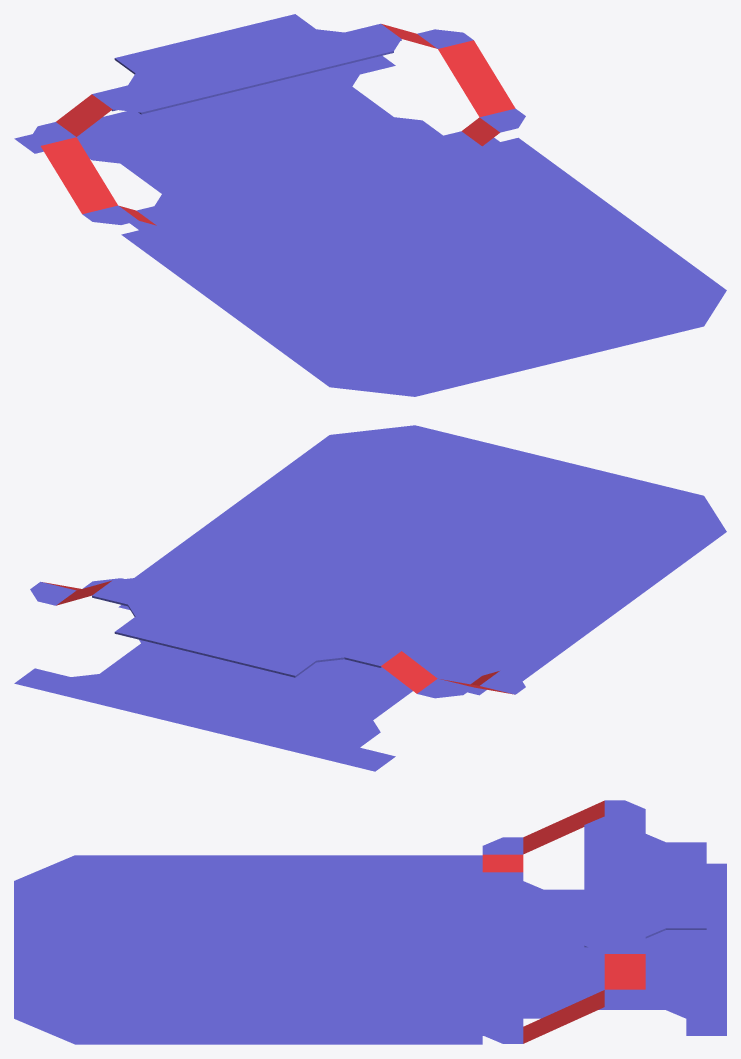
File: Encounter_003_Floor.fbx
3 views of the same model, one above another, from view 1: azimuth 30°, elevation 25°; view 2: azimuth 150°, elevation 25°; view 3: azimuth 270°, elevation 25° (orthographic). The views are drawn at different scales.
Visible parts, largest first — view 1: Encounter_003_Floor; view 2: Encounter_003_Floor; view 3: Encounter_003_Floor.
Boxes of the visible parts, x1=… form: Encounter_003_Floor: x1=14, y1=14, x2=726, y2=396; Encounter_003_Floor: x1=14, y1=425, x2=726, y2=771; Encounter_003_Floor: x1=14, y1=800, x2=726, y2=1044.
Size of the model in its own units: 4800 by 700 by 7000.
